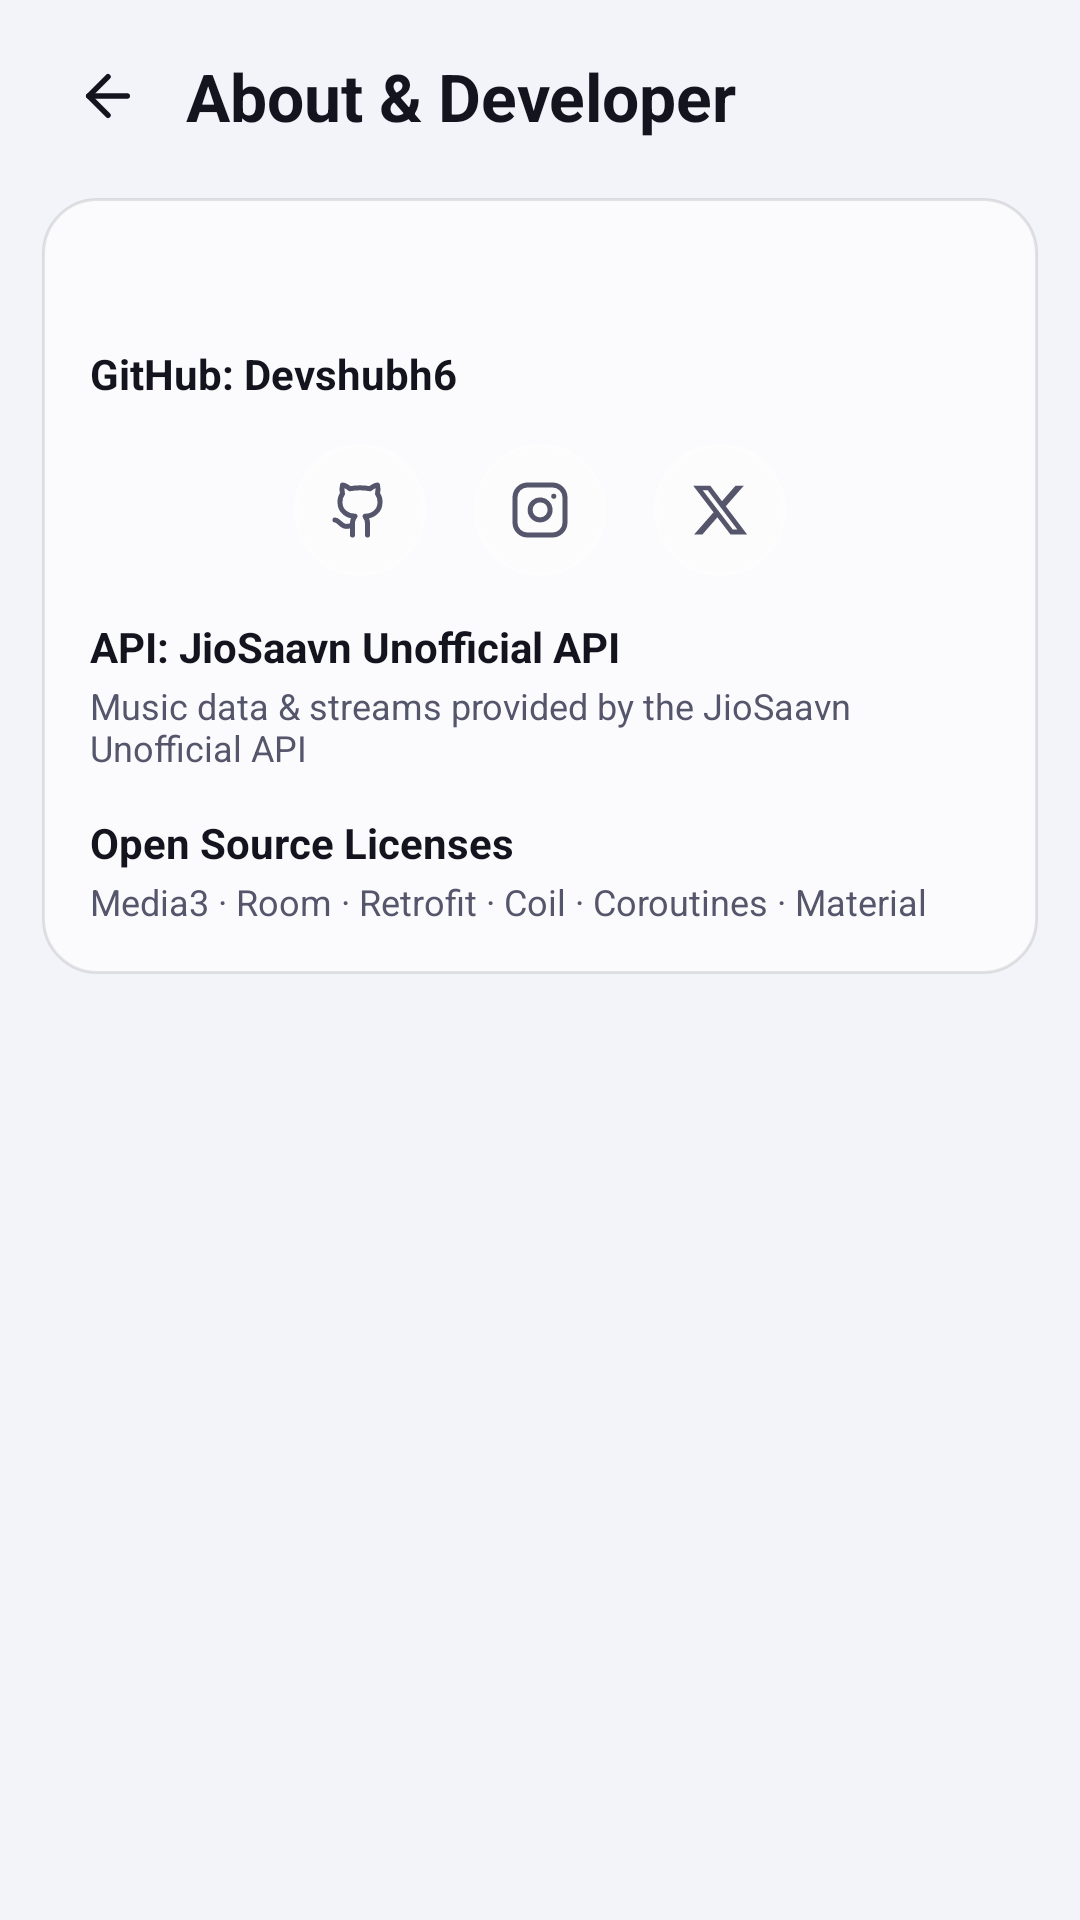

Screen size 1080×1920. Icon name, then its box in pixels as (x1, y1, x2, y2):
arrow back: (86, 74, 130, 118)
